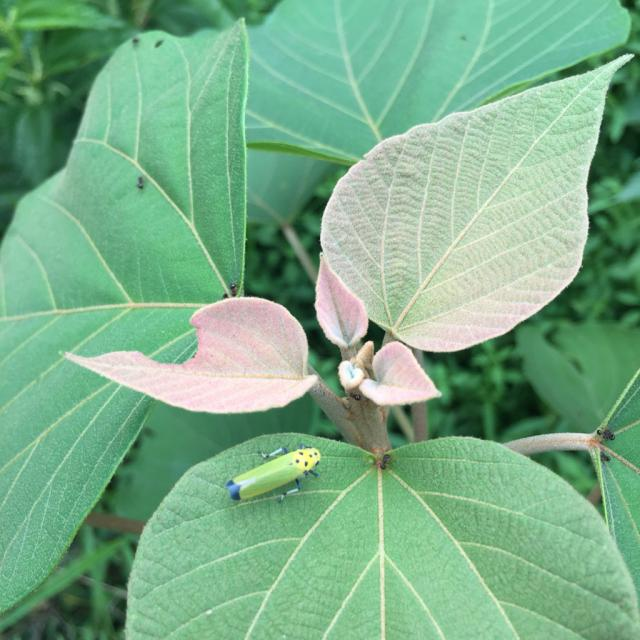Yechan: (226, 441, 322, 509)
